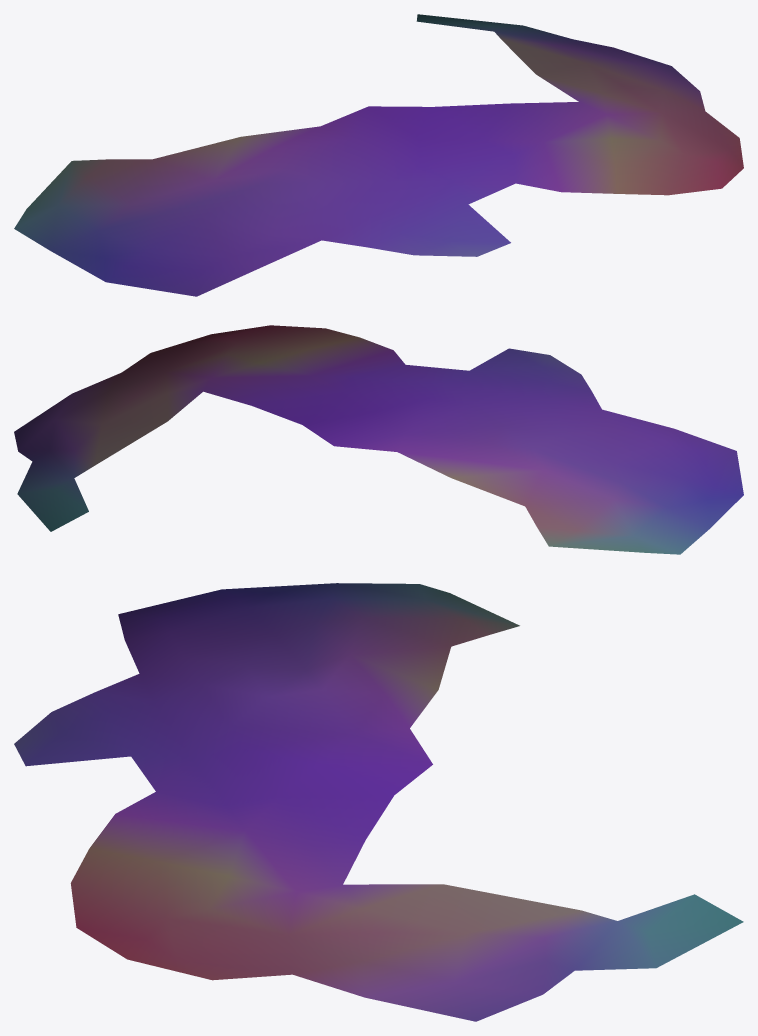
The model's file is space-galaxies-irregular-galaxy_v7.glb.
The picture shows the model from 3 angles, top to bottom: view 1: azimuth 30°, elevation 25°; view 2: azimuth 150°, elevation 25°; view 3: azimuth 270°, elevation 25°; orthographic projection. The views are drawn at different scales.
Visible parts, largest first — view 1: Irregular Galaxy_v7; view 2: Irregular Galaxy_v7; view 3: Irregular Galaxy_v7.
Part boxes in pixels (x1,y1,x2,y2): Irregular Galaxy_v7: [14, 14, 743, 296]; Irregular Galaxy_v7: [14, 325, 743, 554]; Irregular Galaxy_v7: [14, 583, 743, 1021].
Bounding box in the file's own units: 0.5 × 0.0365 × 0.3733.
